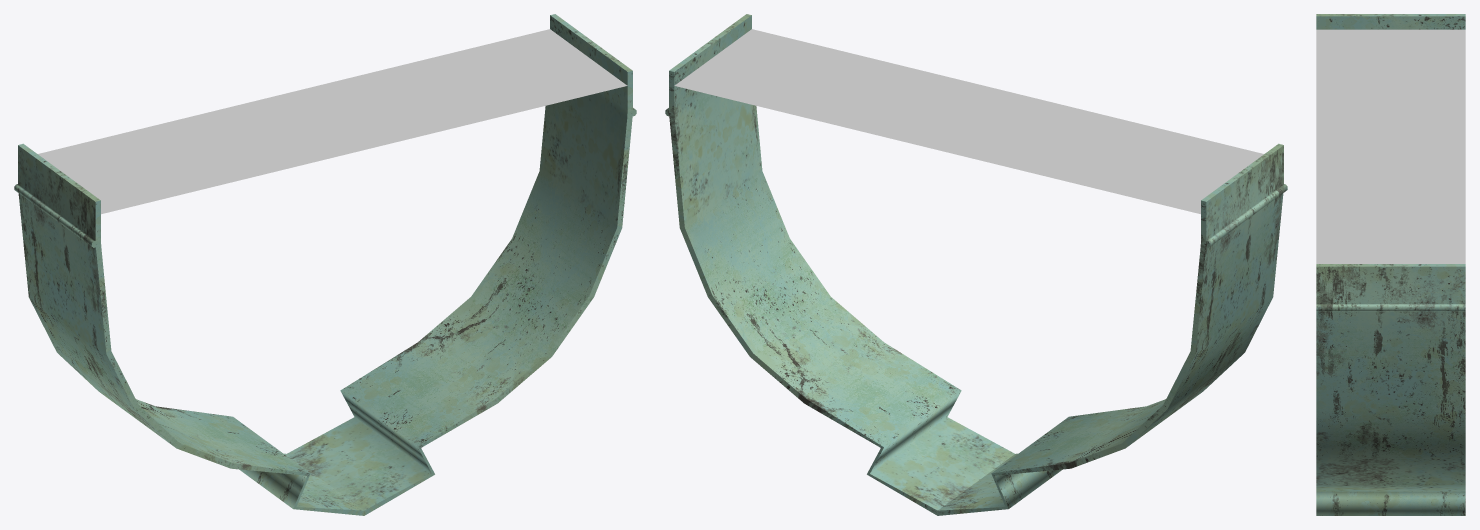
Rendered from boat_G_mid_4.fbx.
3 views of the same model, side by side, from view 1: azimuth 30°, elevation 25°; view 2: azimuth 150°, elevation 25°; view 3: azimuth 270°, elevation 25° (orthographic). The views are drawn at different scales.
Visible parts, largest first — view 1: boat_G_mid_4; view 2: boat_G_mid_4; view 3: boat_G_mid_4.
Boxes of the visible parts, bbox=[...] form: boat_G_mid_4: bbox=[14, 14, 636, 515]; boat_G_mid_4: bbox=[665, 14, 1287, 515]; boat_G_mid_4: bbox=[1316, 14, 1465, 515].
Size of the model in its own units: 1014 by 675 by 250.
